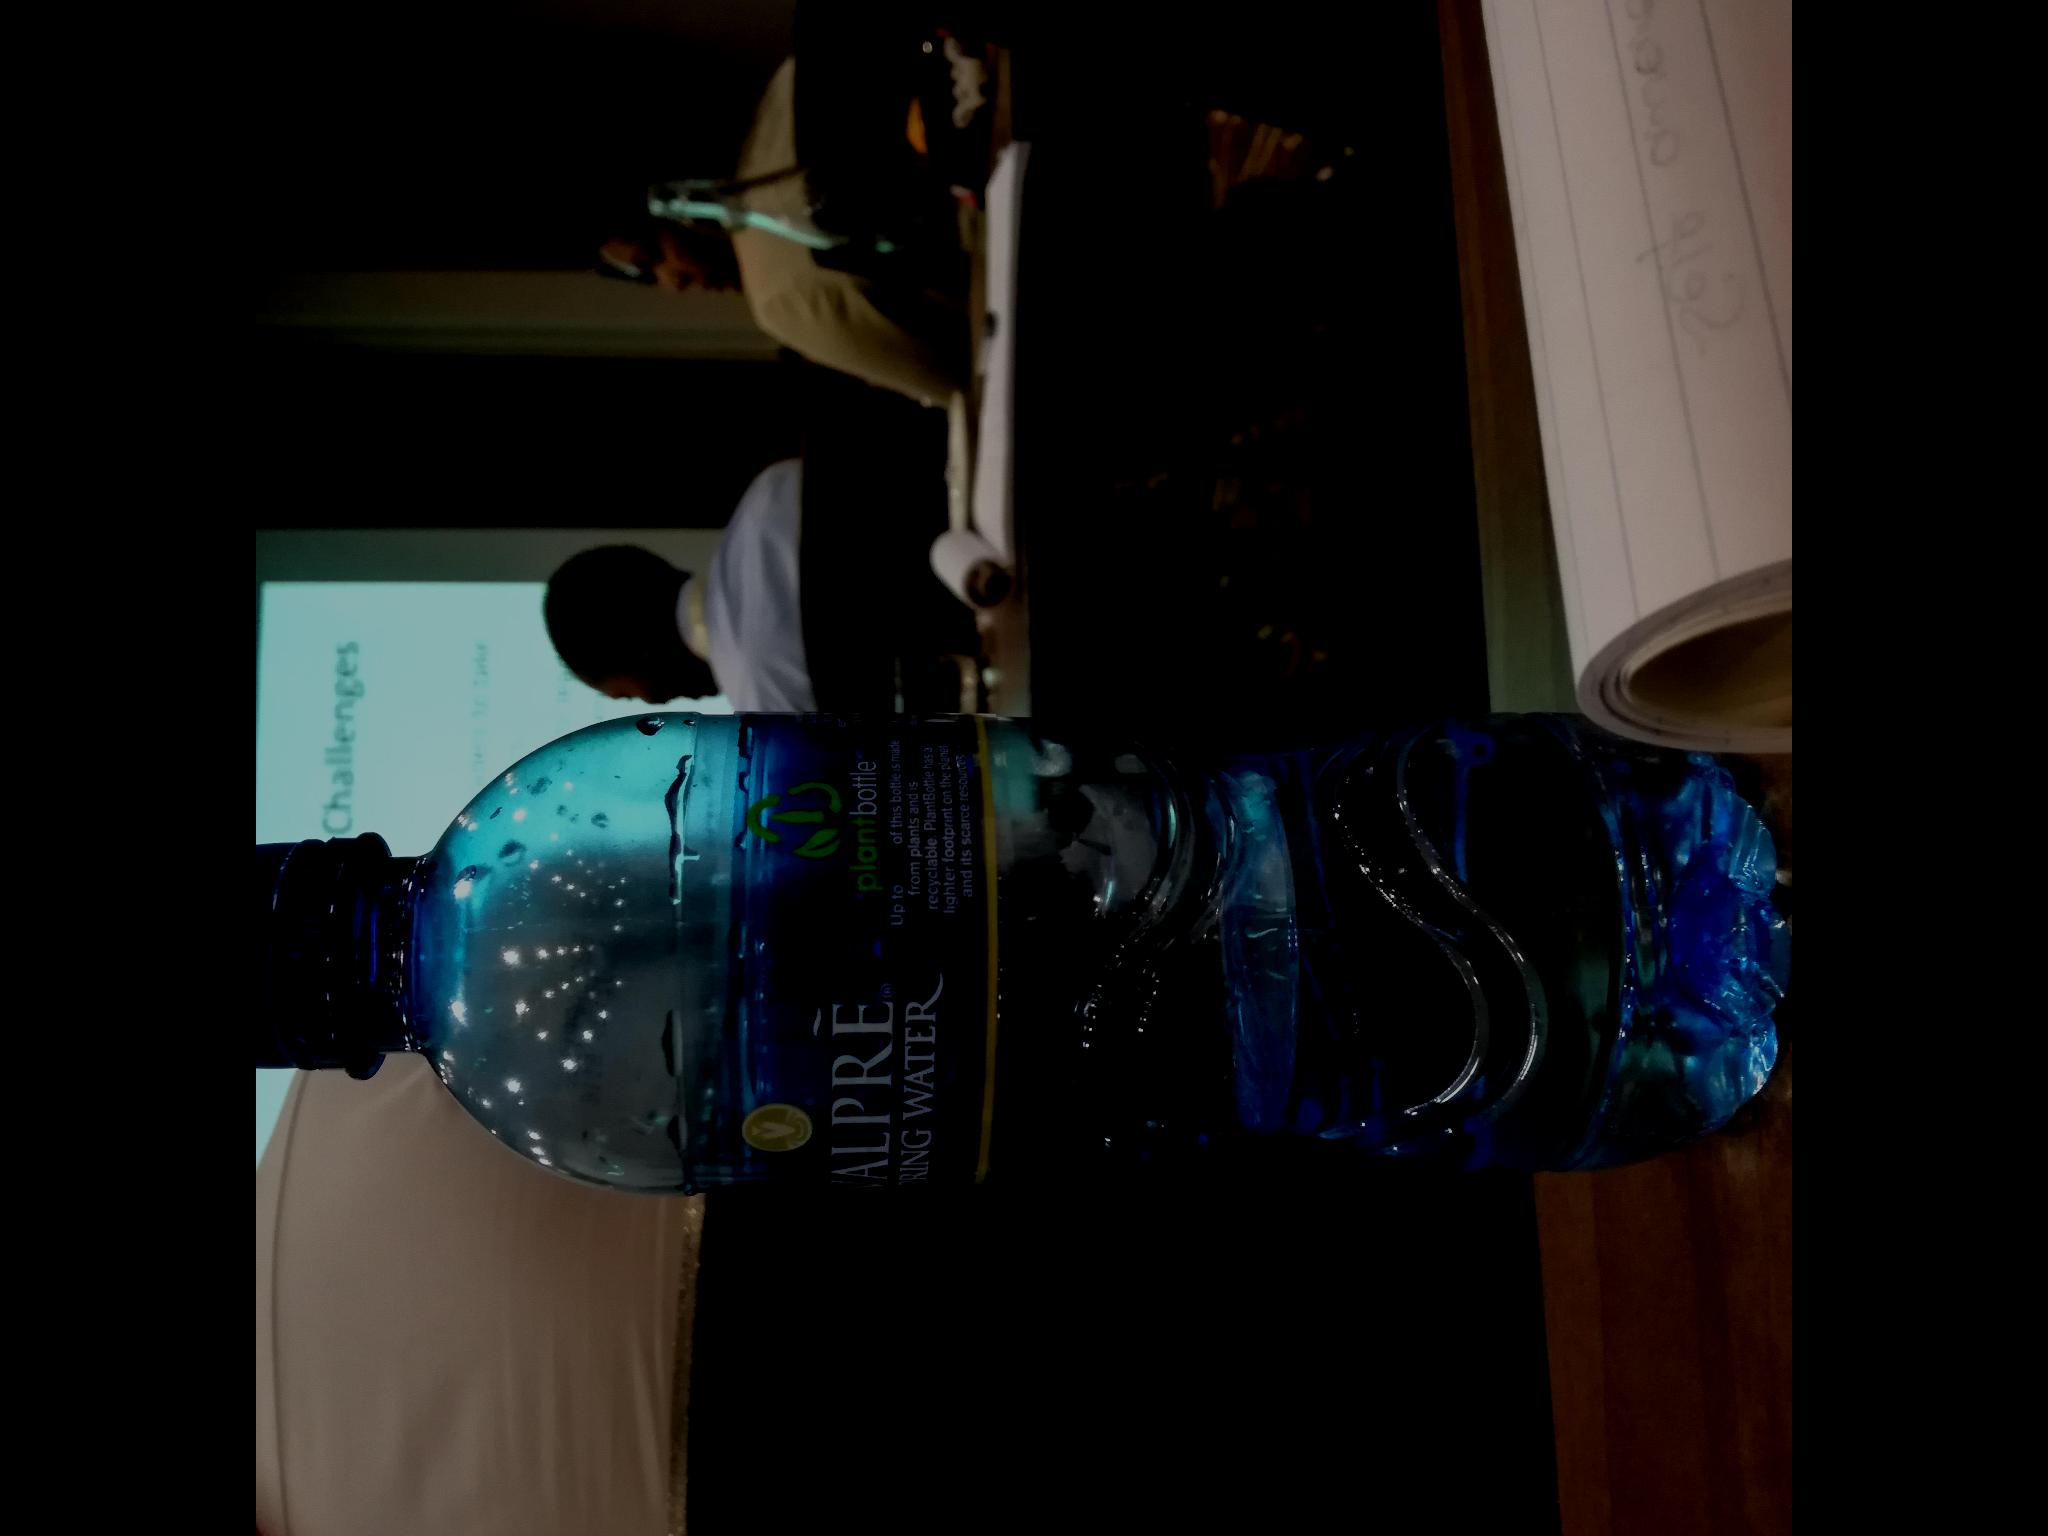bottle: (256, 671, 1792, 1229)
